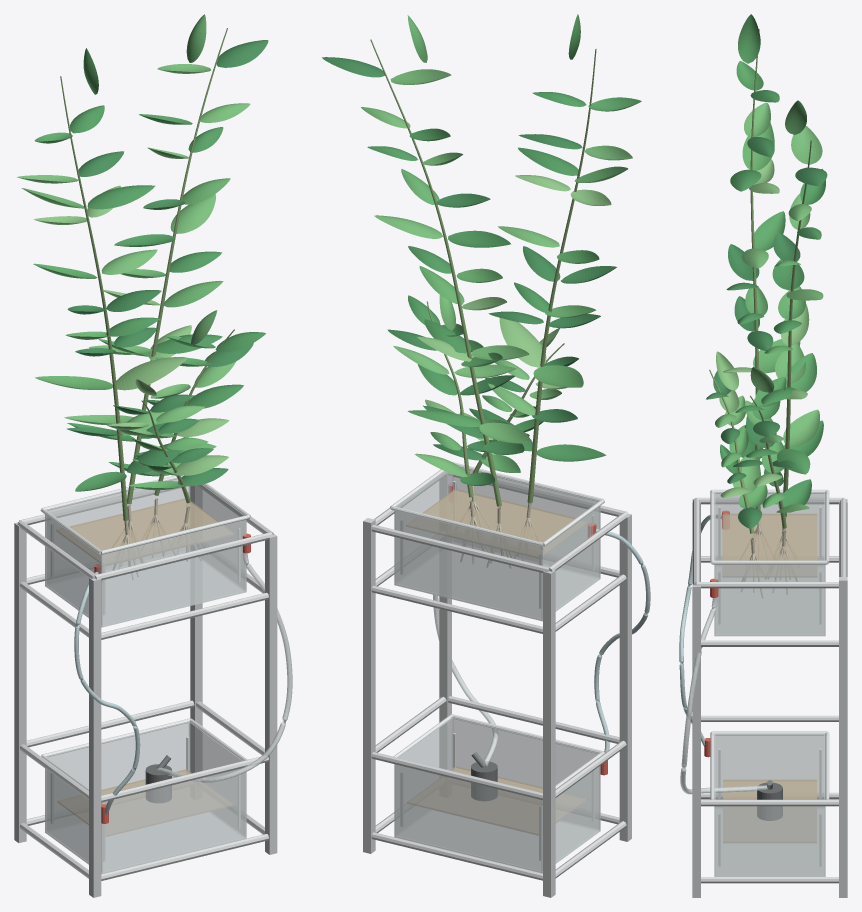
Rendered from paradise-factory-plant.glb.
3 views of the same model, side by side, from view 1: azimuth 30°, elevation 25°; view 2: azimuth 150°, elevation 25°; view 3: azimuth 270°, elevation 25° (orthographic). The views are drawn at different scales.
Visible parts, largest first — view 1: plastic, plant, hardware, water; view 2: plastic, plant, hardware, water; view 3: plant, plastic, hardware, water.
Boxes of the visible parts, x1,y1,x2,y2 form: plastic: (40, 475, 292, 873); plant: (17, 14, 268, 579); hardware: (14, 485, 277, 897); water: (56, 498, 234, 836); plastic: (390, 462, 650, 873); plant: (322, 14, 641, 568); hardware: (363, 472, 631, 897); water: (406, 488, 588, 835); plant: (706, 14, 827, 598); plastic: (679, 489, 829, 876); hardware: (692, 497, 847, 897); water: (722, 513, 817, 842).
Bounding box in the file's own units: 0.5374 × 1.52 × 0.2869.
